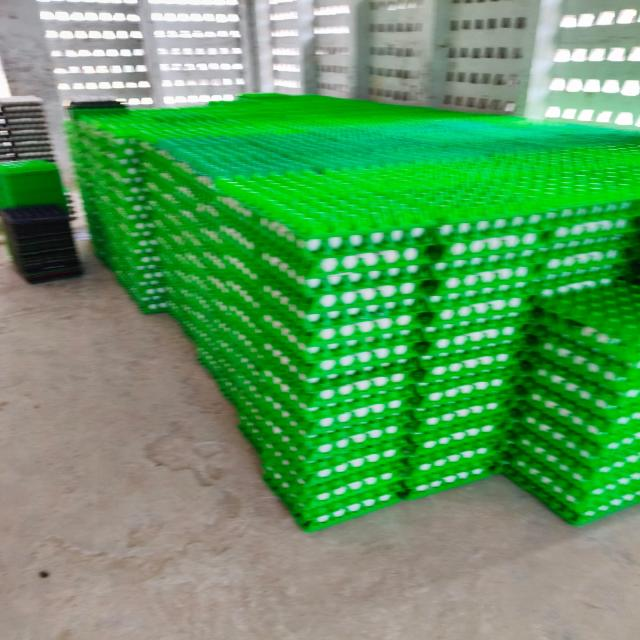egg_tray: (216, 312, 507, 429), (511, 284, 639, 523), (189, 274, 410, 391), (190, 274, 415, 387), (199, 336, 406, 454), (428, 202, 637, 318), (213, 310, 410, 431), (200, 351, 405, 466), (229, 382, 404, 504), (216, 273, 419, 377), (216, 181, 432, 276), (224, 254, 416, 360), (236, 218, 429, 321), (225, 253, 421, 354), (224, 255, 420, 356), (218, 196, 433, 279), (241, 414, 401, 517), (85, 136, 165, 312), (237, 300, 419, 377), (412, 298, 530, 408), (425, 214, 544, 320), (237, 361, 408, 433), (300, 158, 475, 228), (243, 370, 407, 442), (246, 360, 412, 430), (510, 415, 639, 505), (523, 359, 639, 458), (257, 334, 416, 405), (237, 250, 419, 312), (263, 268, 421, 339), (404, 394, 509, 497), (260, 315, 419, 383), (413, 314, 525, 408), (503, 448, 639, 524), (518, 379, 639, 464), (416, 297, 532, 384), (523, 366, 639, 449), (417, 296, 533, 378), (512, 437, 639, 511), (503, 455, 636, 525), (538, 201, 639, 292), (263, 456, 402, 522), (407, 386, 511, 474), (536, 281, 639, 368), (283, 227, 433, 286), (497, 146, 637, 209), (526, 389, 639, 466), (513, 433, 639, 501), (521, 370, 639, 442), (264, 470, 402, 531), (249, 409, 407, 462), (259, 450, 403, 507), (529, 324, 639, 398), (528, 354, 639, 426), (423, 254, 541, 321), (198, 341, 271, 448), (515, 404, 639, 466), (257, 441, 402, 494), (265, 477, 402, 531), (167, 268, 254, 352), (172, 130, 308, 183), (193, 184, 284, 262), (530, 281, 622, 358), (175, 310, 259, 394), (194, 177, 287, 251), (167, 269, 256, 346), (417, 309, 529, 370), (197, 342, 262, 446), (405, 416, 507, 482), (407, 389, 512, 453), (438, 203, 559, 258), (181, 271, 262, 353), (198, 350, 262, 446), (306, 371, 412, 428), (107, 206, 165, 310), (197, 343, 259, 437), (147, 173, 222, 250), (537, 238, 635, 296), (434, 208, 545, 259), (107, 216, 165, 311), (151, 199, 225, 272), (422, 280, 534, 328), (139, 154, 215, 224), (148, 173, 222, 244), (182, 212, 259, 280), (156, 218, 227, 291), (79, 139, 143, 219), (402, 448, 501, 499), (139, 142, 214, 208), (292, 416, 407, 459), (147, 170, 217, 239), (85, 128, 146, 207), (550, 138, 639, 192), (141, 142, 221, 202), (410, 366, 519, 410), (303, 363, 414, 406), (543, 201, 639, 248), (154, 205, 222, 268), (163, 252, 232, 313), (414, 343, 517, 383), (166, 268, 217, 345), (156, 234, 214, 300), (150, 196, 216, 253), (143, 151, 215, 203), (212, 177, 278, 230), (152, 205, 219, 257), (108, 206, 160, 270), (100, 180, 155, 239), (149, 198, 204, 252), (170, 301, 221, 359), (98, 190, 154, 242), (203, 246, 261, 296), (112, 261, 167, 313), (156, 234, 208, 288), (86, 126, 142, 176), (156, 234, 207, 288), (96, 151, 146, 205), (114, 256, 165, 308), (67, 122, 109, 183), (165, 157, 219, 204), (139, 142, 181, 202), (101, 170, 149, 220), (167, 295, 212, 348), (71, 139, 101, 214), (177, 242, 233, 282), (82, 189, 111, 266), (83, 188, 112, 264), (83, 198, 112, 270), (83, 193, 110, 268), (139, 131, 182, 174), (87, 163, 127, 206), (72, 146, 100, 205), (110, 252, 141, 302), (167, 300, 201, 345), (67, 122, 94, 170), (130, 220, 160, 263), (67, 119, 111, 146), (90, 228, 112, 270), (80, 180, 101, 216), (139, 287, 167, 312), (230, 344, 261, 366), (619, 251, 639, 285), (221, 342, 242, 359), (389, 344, 407, 361), (348, 476, 377, 485), (245, 344, 261, 360), (182, 317, 199, 332), (358, 380, 381, 391), (270, 206, 287, 219), (280, 419, 297, 432), (263, 236, 277, 249), (283, 136, 293, 153), (92, 216, 103, 230), (178, 194, 189, 208), (241, 389, 253, 401), (375, 272, 391, 281), (173, 191, 184, 203), (271, 424, 283, 434), (175, 211, 183, 226), (109, 233, 118, 246), (318, 388, 331, 396), (237, 356, 248, 365), (202, 205, 218, 211), (217, 181, 225, 191), (460, 306, 473, 312), (320, 393, 331, 400), (333, 201, 341, 210), (428, 315, 438, 322), (539, 478, 550, 484), (357, 411, 370, 416), (181, 288, 189, 296), (100, 202, 107, 211), (111, 207, 117, 217), (629, 405, 639, 411), (620, 300, 624, 314), (185, 179, 193, 186), (184, 318, 191, 326), (213, 262, 222, 268), (381, 472, 391, 477), (87, 222, 94, 229), (362, 502, 374, 506), (262, 184, 270, 190), (390, 403, 399, 408), (237, 219, 246, 224), (337, 274, 348, 278), (339, 390, 346, 396), (606, 130, 612, 137), (210, 210, 217, 216), (629, 362, 634, 370), (274, 379, 282, 384), (319, 491, 332, 494), (148, 242, 154, 248), (554, 486, 560, 492), (451, 368, 459, 372), (86, 214, 90, 222), (349, 283, 357, 287), (620, 356, 626, 361), (548, 360, 553, 366), (324, 362, 330, 367), (463, 309, 469, 314), (441, 395, 446, 401), (310, 441, 316, 446), (209, 357, 215, 362), (106, 216, 110, 223), (630, 406, 637, 410), (293, 333, 298, 338), (183, 263, 188, 268), (334, 202, 339, 207), (87, 206, 91, 212), (319, 472, 325, 476), (237, 406, 243, 410), (237, 224, 243, 228), (319, 397, 330, 399), (101, 203, 104, 210), (354, 461, 358, 466), (370, 454, 375, 458), (370, 275, 375, 279), (222, 168, 226, 173), (75, 148, 78, 154), (220, 306, 223, 312), (193, 205, 199, 208), (585, 514, 594, 516), (279, 267, 285, 270), (297, 249, 303, 252), (213, 375, 217, 379), (210, 362, 214, 366), (258, 422, 262, 426), (247, 308, 251, 312), (125, 284, 129, 288), (292, 308, 296, 312), (253, 252, 257, 256), (162, 174, 167, 177), (387, 445, 392, 448), (327, 220, 332, 223), (382, 347, 387, 350), (472, 305, 475, 310), (293, 203, 298, 206), (173, 130, 180, 132), (578, 443, 582, 446), (372, 408, 376, 411), (190, 182, 193, 186), (219, 282, 222, 286), (247, 318, 250, 322), (194, 258, 197, 262), (192, 267, 196, 270), (132, 208, 135, 212), (83, 189, 85, 195), (156, 222, 159, 226), (163, 124, 166, 128), (579, 132, 582, 136), (392, 273, 398, 275), (494, 329, 498, 332), (165, 189, 169, 192), (413, 265, 418, 267), (236, 299, 241, 301), (476, 177, 481, 179), (221, 240, 223, 245), (101, 206, 103, 211), (165, 129, 170, 131), (321, 160, 323, 165), (227, 270, 232, 272), (81, 125, 84, 128), (212, 301, 215, 304), (196, 205, 199, 208), (612, 331, 615, 334), (142, 143, 145, 146), (223, 343, 226, 346), (358, 274, 361, 277), (114, 218, 117, 221), (267, 416, 270, 419), (186, 320, 189, 323), (508, 270, 511, 273), (596, 189, 599, 192), (305, 149, 308, 152), (236, 205, 239, 208), (193, 265, 195, 269), (303, 324, 305, 328), (228, 280, 230, 284), (154, 130, 158, 132), (454, 396, 458, 398), (349, 221, 351, 225), (173, 264, 177, 266), (239, 363, 243, 365), (354, 386, 356, 389), (267, 424, 270, 426), (273, 439, 275, 442), (239, 394, 241, 397), (581, 449, 584, 451), (461, 308, 464, 310), (217, 258, 219, 261), (235, 349, 238, 351), (586, 416, 588, 419), (534, 394, 537, 396), (282, 226, 285, 228), (612, 446, 615, 448), (207, 292, 210, 294), (634, 391, 636, 394), (299, 280, 301, 283), (347, 355, 349, 358), (336, 448, 339, 450), (367, 440, 370, 442), (385, 489, 388, 491), (226, 387, 229, 389), (222, 386, 225, 388), (242, 208, 245, 210), (195, 258, 197, 261), (352, 509, 357, 510), (225, 245, 226, 250), (241, 178, 246, 179), (241, 318, 243, 320), (602, 509, 606, 510), (442, 372, 444, 374), (259, 336, 261, 338), (346, 406, 348, 408), (287, 231, 289, 233), (324, 364, 326, 366), (267, 316, 269, 318), (544, 370, 546, 372), (166, 246, 167, 250), (316, 464, 317, 468), (234, 400, 235, 404), (320, 389, 324, 390), (105, 255, 107, 257), (432, 158, 434, 160), (288, 210, 290, 212), (367, 349, 371, 350), (262, 326, 263, 330), (212, 265, 214, 267), (469, 462, 473, 463), (265, 285, 269, 286), (163, 174, 165, 176), (247, 318, 249, 320), (266, 427, 269, 428), (555, 489, 558, 490), (467, 307, 470, 308), (278, 473, 281, 474), (491, 194, 492, 197), (415, 438, 418, 439), (193, 266, 196, 267), (276, 452, 279, 453), (262, 139, 263, 142), (409, 261, 412, 262), (214, 142, 217, 143), (194, 288, 195, 290), (272, 336, 274, 337), (222, 341, 223, 343), (257, 410, 258, 412), (220, 385, 222, 386), (201, 340, 203, 341), (586, 425, 588, 426), (260, 242, 261, 244), (365, 331, 367, 332), (185, 289, 187, 290), (80, 178, 82, 179), (247, 300, 248, 302), (389, 276, 390, 278), (347, 354, 349, 355), (371, 282, 372, 284), (101, 205, 103, 206), (580, 127, 582, 128), (349, 502, 351, 503), (82, 185, 83, 187), (347, 484, 348, 486), (625, 498, 626, 499), (596, 451, 597, 452), (460, 369, 461, 370), (222, 343, 223, 344), (607, 485, 608, 486), (112, 238, 113, 239), (600, 387, 601, 388), (627, 368, 628, 369), (341, 276, 342, 277), (591, 198, 592, 199), (302, 343, 303, 344), (225, 238, 226, 239), (446, 253, 447, 254), (239, 367, 239, 368), (214, 302, 214, 304), (630, 318, 630, 320), (616, 292, 616, 292), (461, 358, 462, 358), (282, 390, 284, 390), (221, 381, 221, 384), (276, 472, 277, 472), (527, 252, 527, 252), (130, 290, 130, 290), (600, 154, 601, 154), (299, 389, 299, 392), (254, 356, 254, 357), (325, 464, 325, 466), (336, 463, 337, 463), (149, 272, 151, 272), (342, 394, 346, 394), (372, 385, 372, 386), (399, 354, 400, 354), (425, 222, 425, 224), (384, 352, 386, 352), (463, 305, 463, 306), (263, 178, 263, 179), (210, 276, 210, 280), (321, 491, 321, 492), (250, 276, 250, 276), (486, 330, 491, 330), (194, 207, 194, 208)
